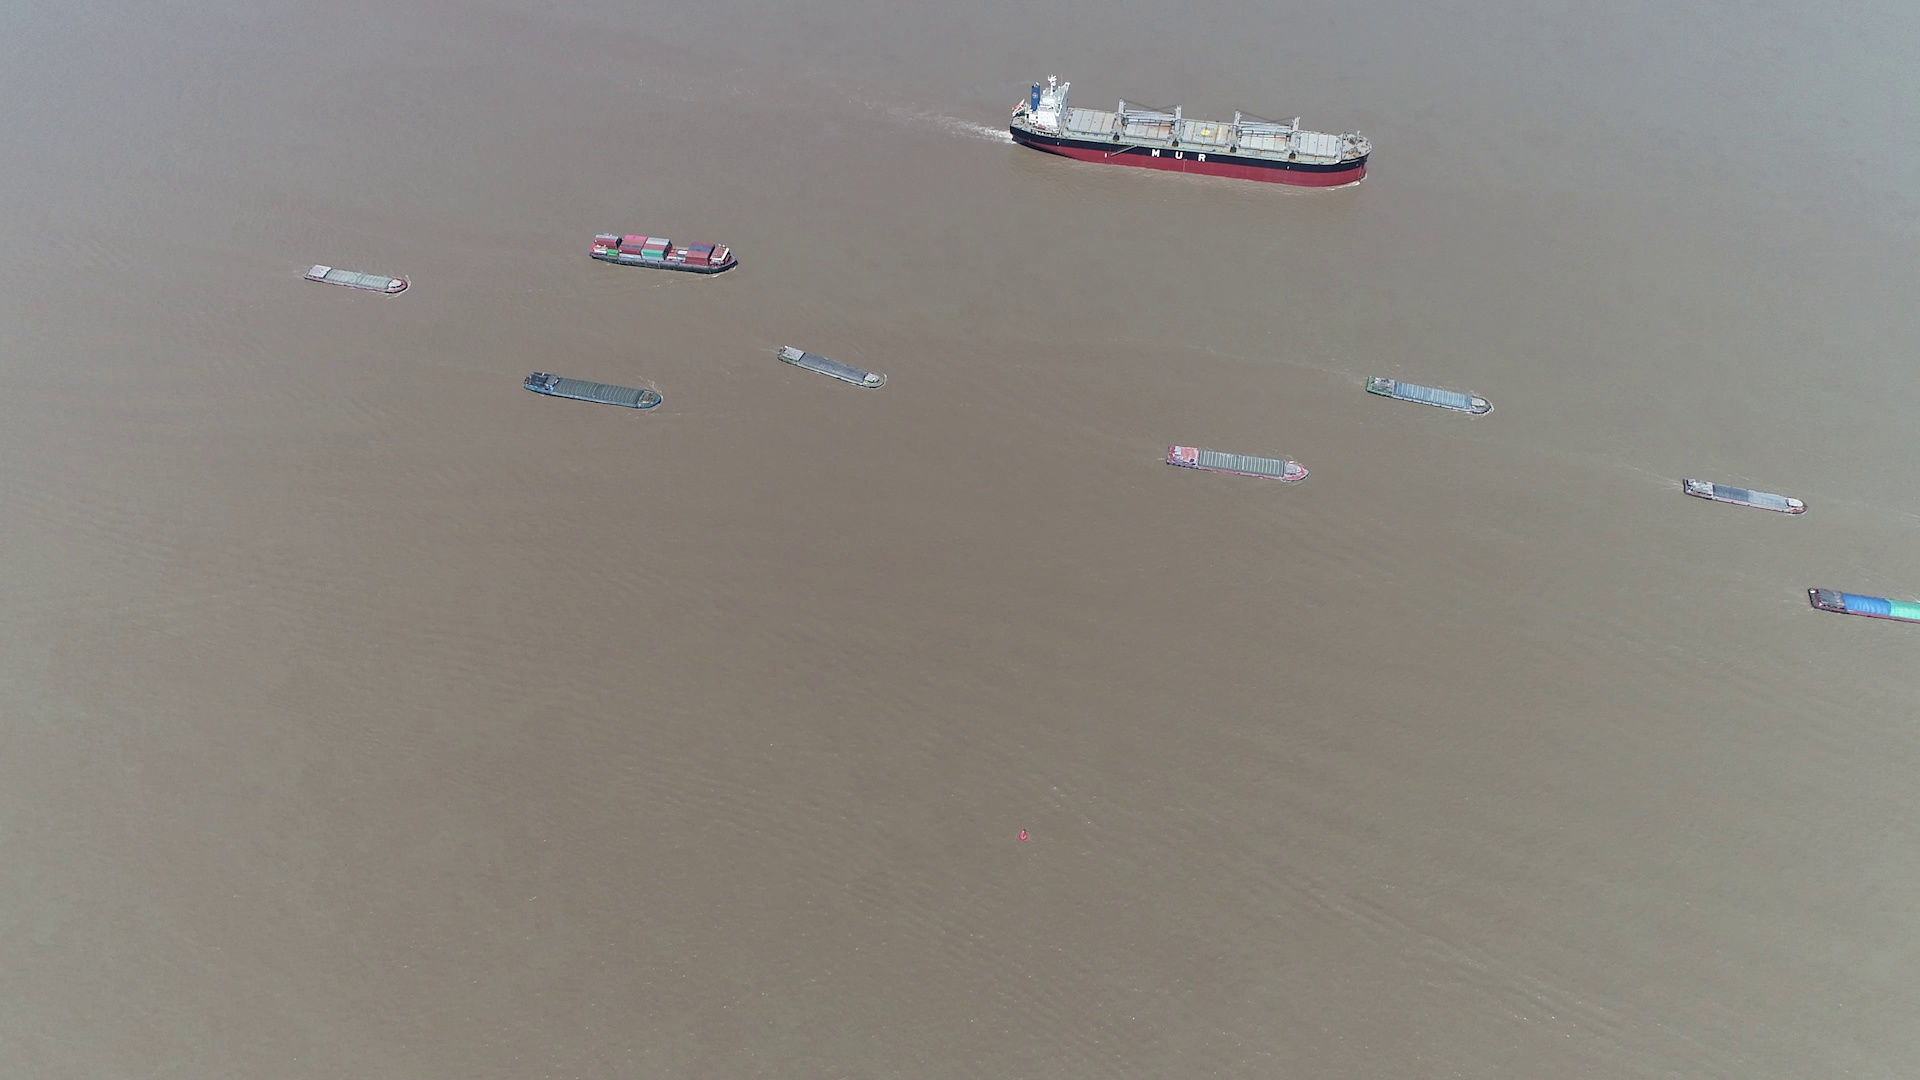ship: (1007, 78, 1367, 185), (588, 232, 738, 273), (1163, 444, 1308, 483), (1362, 375, 1493, 415), (775, 347, 889, 393), (522, 375, 662, 411), (1681, 477, 1807, 516), (1809, 587, 1920, 624), (303, 262, 409, 293)
